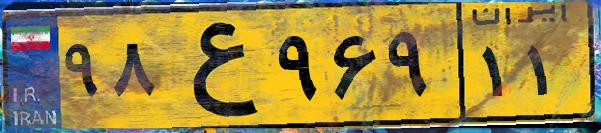1: (475, 38, 525, 113), (525, 38, 570, 115)
6: (330, 28, 385, 110)
8: (110, 28, 158, 98)
9: (270, 28, 330, 110), (385, 28, 445, 110), (57, 26, 110, 100)
ع: (158, 12, 270, 120)
